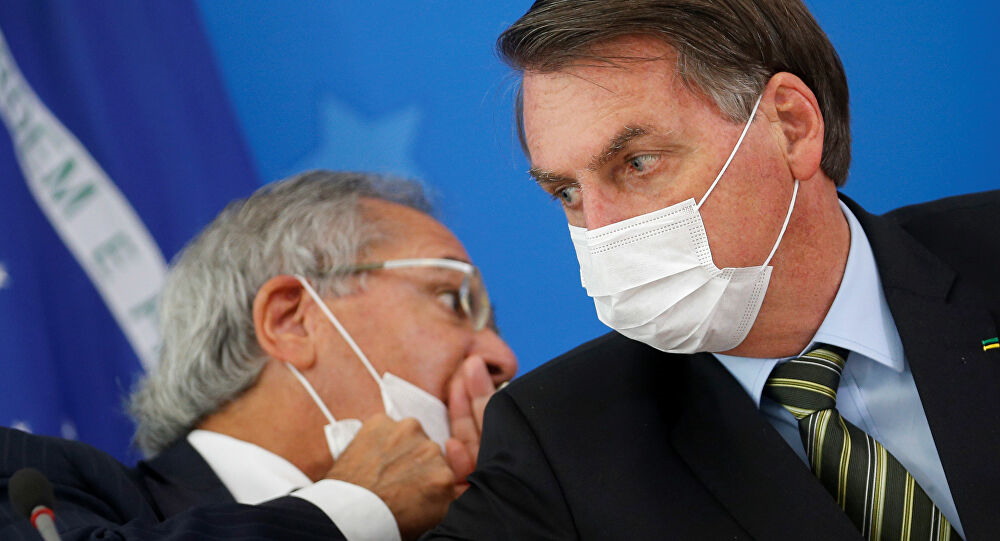mask_weared_incorrect: (247, 217, 530, 488)
with_mask: (519, 68, 845, 354)
